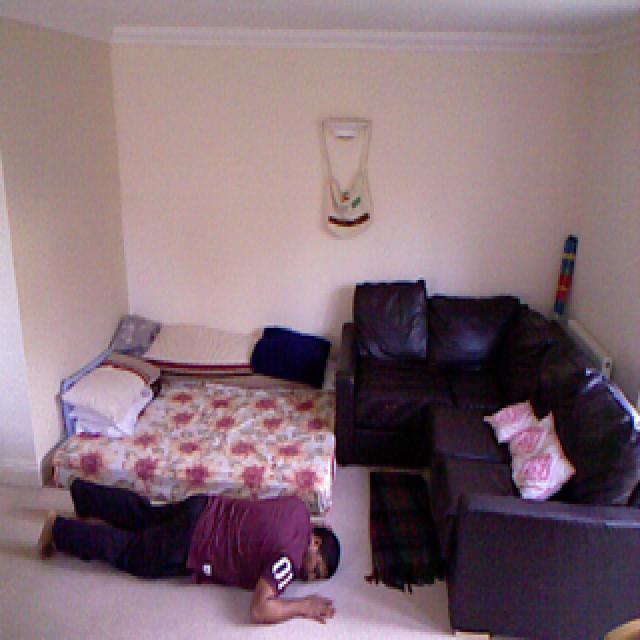Fall: (22, 451, 362, 640)
